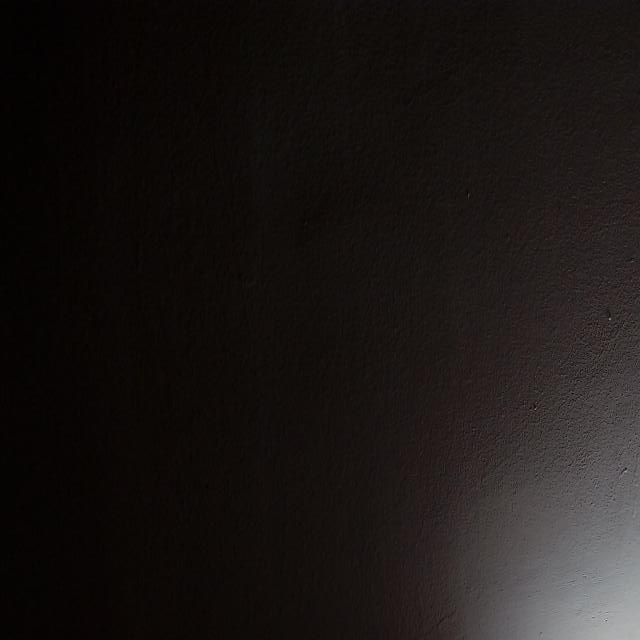fluorescent tube: (481, 525, 640, 640)
